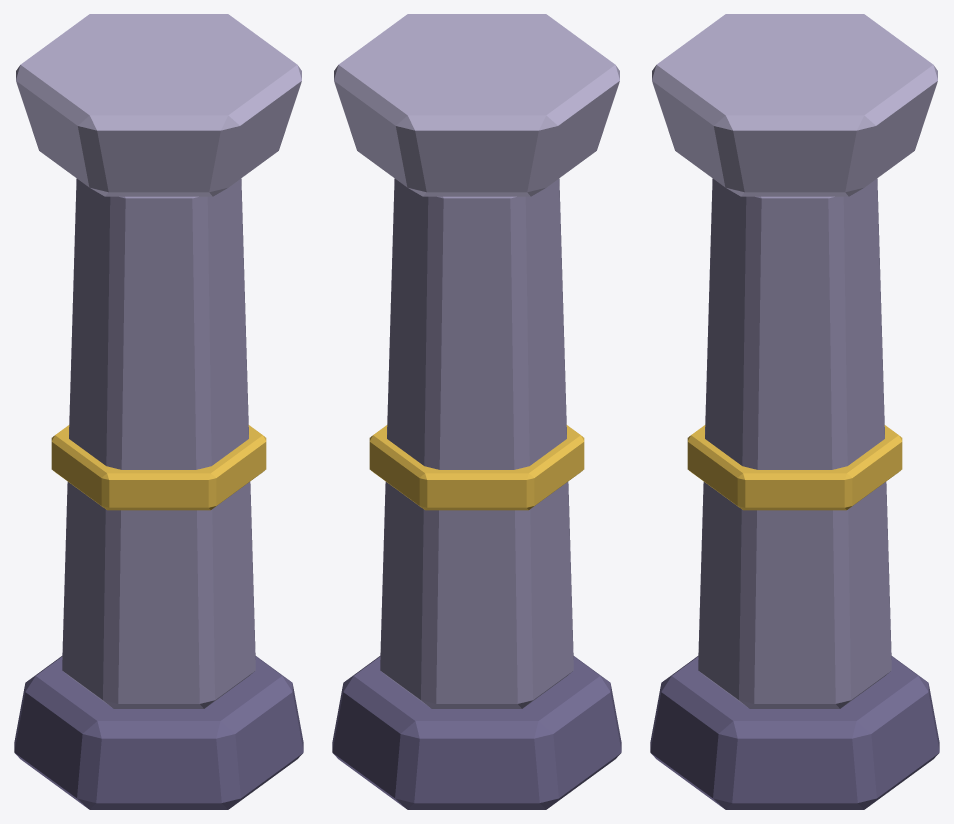
Rendered from coluna-dungeon.glb.
3 renders of one model, left to right at view 1: azimuth 30°, elevation 25°; view 2: azimuth 150°, elevation 25°; view 3: azimuth 270°, elevation 25°, orthographic.
Visible parts, largest first — view 1: ColunaDungeon; view 2: ColunaDungeon; view 3: ColunaDungeon.
Boxes of the visible parts, box(x1,y1,x2,y2) form: ColunaDungeon: box(14, 14, 303, 809); ColunaDungeon: box(332, 14, 621, 809); ColunaDungeon: box(650, 14, 939, 809).
Size of the model in its own units: 0.5125 by 1.5 by 0.5667.
